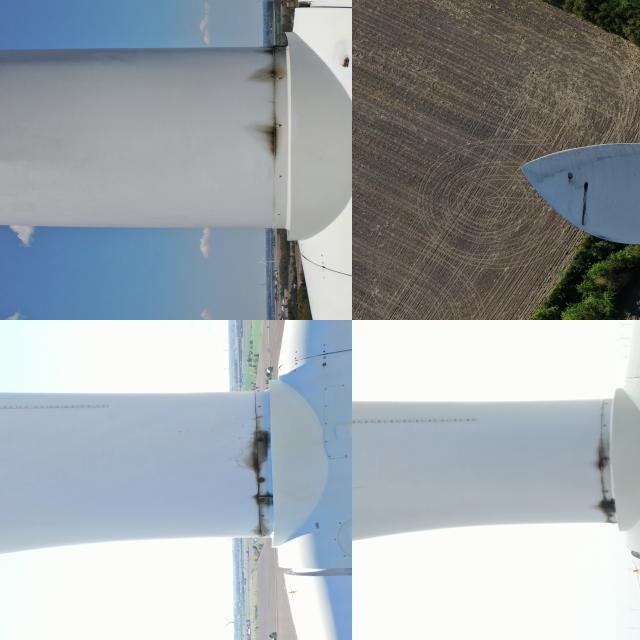damage: (219, 424, 283, 480), (235, 488, 282, 540), (246, 36, 286, 90), (244, 120, 288, 160), (578, 440, 618, 474), (580, 492, 630, 518), (580, 180, 594, 230)
